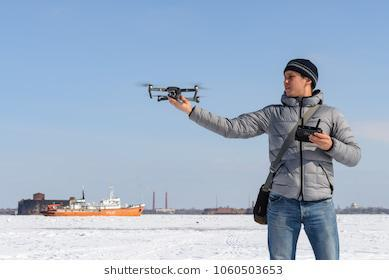drone: (143, 79, 206, 107)
